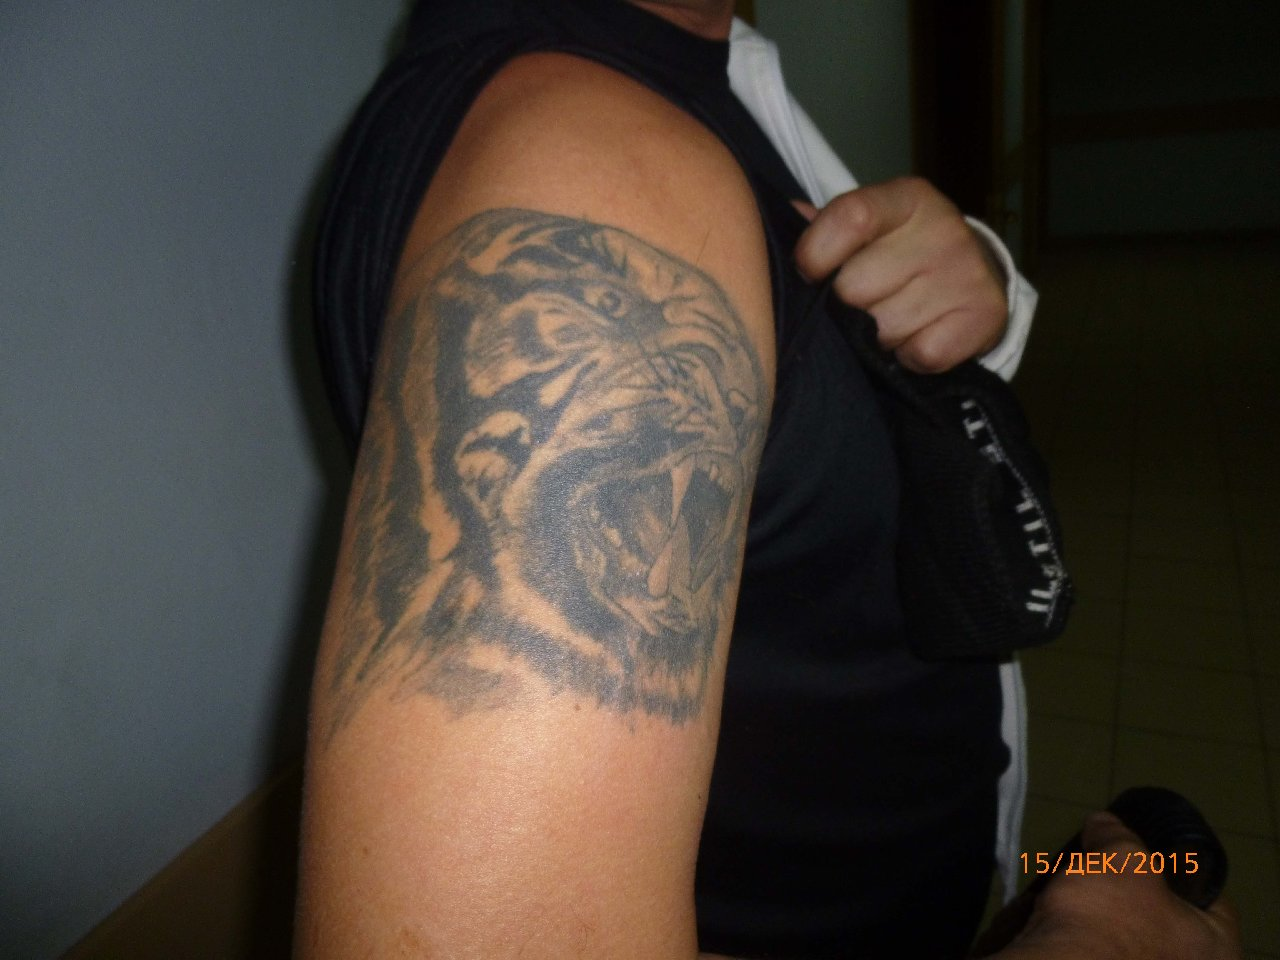tatu5_tigr: (387, 184, 776, 787)
